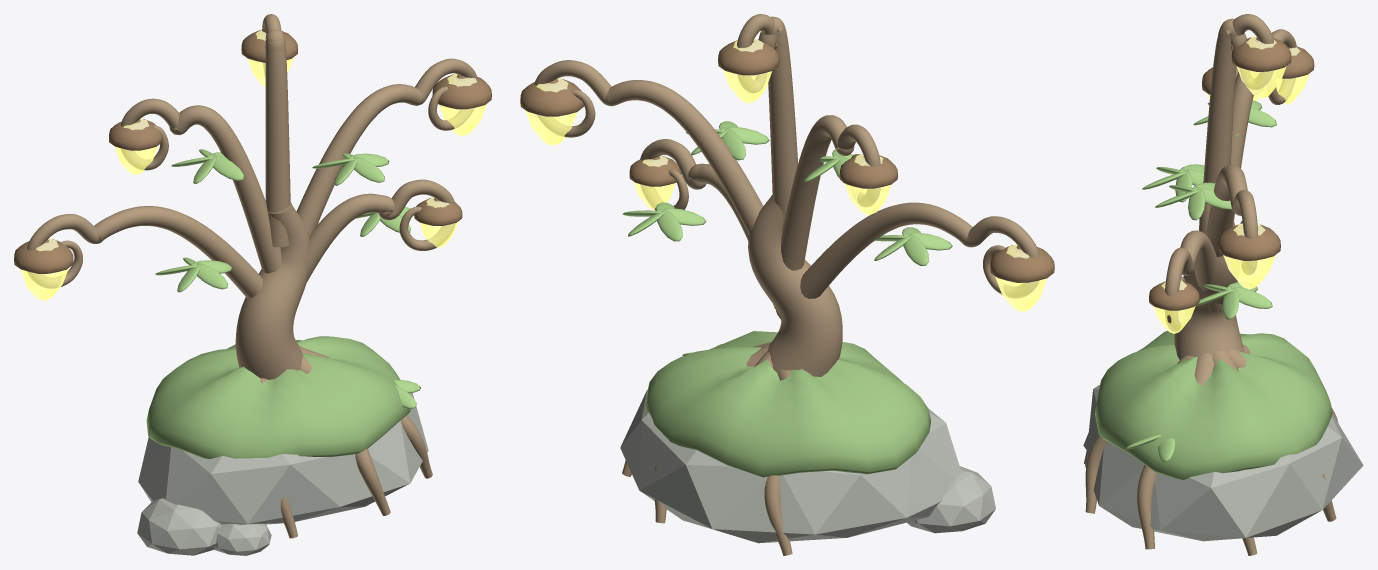
The model's file is plant-acorn-lantern.glb.
The picture shows the model from 3 angles, left to right: view 1: azimuth 30°, elevation 25°; view 2: azimuth 150°, elevation 25°; view 3: azimuth 270°, elevation 25°; orthographic projection. The views are drawn at different scales.
Visible parts, largest first — view 1: AcornTree_MossCushion, AcornTree_Boulder, AcornTree_MainTrunk, AcornTree_Branch_0, AcornTree_Branch_1, AcornTree_Branch_3, AcornTree_Branch_2, AcornTree_Branch_4, AcornTree_SmallRock_0, AcornTree_SmallRock_1, AcornTree_Lantern_0_Cap, AcornTree_Lantern_3_Cap (+13 smaller); view 2: AcornTree_MossCushion, AcornTree_Boulder, AcornTree_MainTrunk, AcornTree_Branch_3, AcornTree_Branch_0, AcornTree_Branch_1, AcornTree_Branch_2, AcornTree_SmallRock_0, AcornTree_Branch_4, AcornTree_Lantern_0_Cap, AcornTree_Lantern_3_Cap, AcornTree_Lantern_2_Cap (+11 smaller); view 3: AcornTree_MossCushion, AcornTree_Boulder, AcornTree_Branch_2, AcornTree_MainTrunk, AcornTree_Branch_3, AcornTree_Branch_4, AcornTree_Branch_1, AcornTree_Lantern_3_Cap, AcornTree_Root_3, AcornTree_Lantern_2_Cap, AcornTree_Pinwheel_3, AcornTree_Pinwheel_2 (+12 smaller).
Boxes of the visible parts, <box> form: AcornTree_MossCushion: <box>146,336,410,458</box>; AcornTree_Boulder: <box>138,393,428,524</box>; AcornTree_MainTrunk: <box>235,202,308,379</box>; AcornTree_Branch_0: <box>27,206,262,298</box>; AcornTree_Branch_1: <box>120,98,281,273</box>; AcornTree_Branch_3: <box>296,58,477,237</box>; AcornTree_Branch_2: <box>262,14,290,247</box>; AcornTree_Branch_4: <box>306,179,455,282</box>; AcornTree_SmallRock_0: <box>137,498,221,555</box>; AcornTree_SmallRock_1: <box>214,524,271,555</box>; AcornTree_Lantern_0_Cap: <box>14,239,73,273</box>; AcornTree_Lantern_3_Cap: <box>432,74,491,109</box>; AcornTree_MossCushion: <box>645,331,930,477</box>; AcornTree_Boulder: <box>620,390,961,543</box>; AcornTree_MainTrunk: <box>748,194,842,376</box>; AcornTree_Branch_3: <box>534,60,763,234</box>; AcornTree_Branch_0: <box>775,202,1039,319</box>; AcornTree_Branch_1: <box>781,115,880,270</box>; AcornTree_Branch_2: <box>737,14,797,233</box>; AcornTree_SmallRock_0: <box>907,466,995,533</box>; AcornTree_Branch_4: <box>640,139,775,308</box>; AcornTree_Lantern_0_Cap: <box>990,245,1054,282</box>; AcornTree_Lantern_3_Cap: <box>520,78,584,116</box>; AcornTree_Lantern_2_Cap: <box>718,39,779,75</box>; AcornTree_MossCushion: <box>1094,330,1332,479</box>; AcornTree_Boulder: <box>1085,385,1363,541</box>; AcornTree_Branch_2: <box>1203,14,1273,183</box>; AcornTree_MainTrunk: <box>1174,203,1243,359</box>; AcornTree_Branch_3: <box>1206,164,1257,274</box>; AcornTree_Branch_4: <box>1165,230,1222,331</box>; AcornTree_Branch_1: <box>1231,29,1296,219</box>; AcornTree_Lantern_3_Cap: <box>1218,224,1280,260</box>; AcornTree_Root_3: <box>1137,353,1213,549</box>; AcornTree_Lantern_2_Cap: <box>1231,37,1291,71</box>; AcornTree_Pinwheel_3: <box>1196,282,1272,319</box>; AcornTree_Pinwheel_2: <box>1155,182,1231,220</box>.
Bounding box in the file's own units: 2.74 × 2.51 × 1.31.
